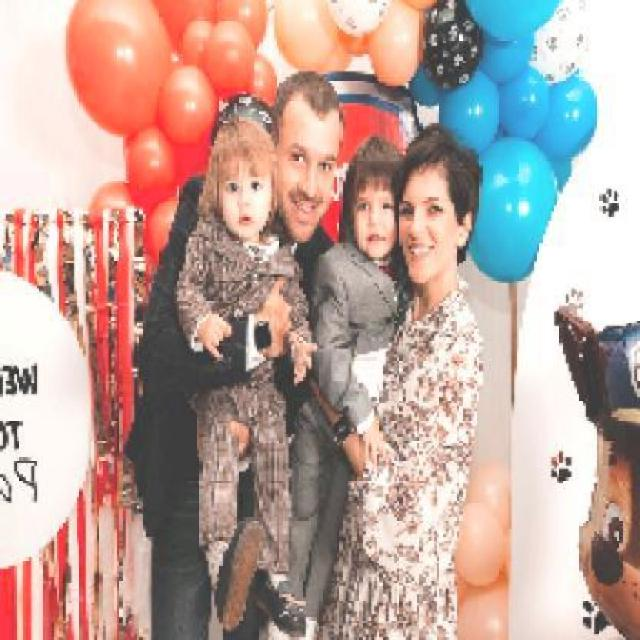child: (174, 117, 320, 637), (288, 137, 406, 637)
